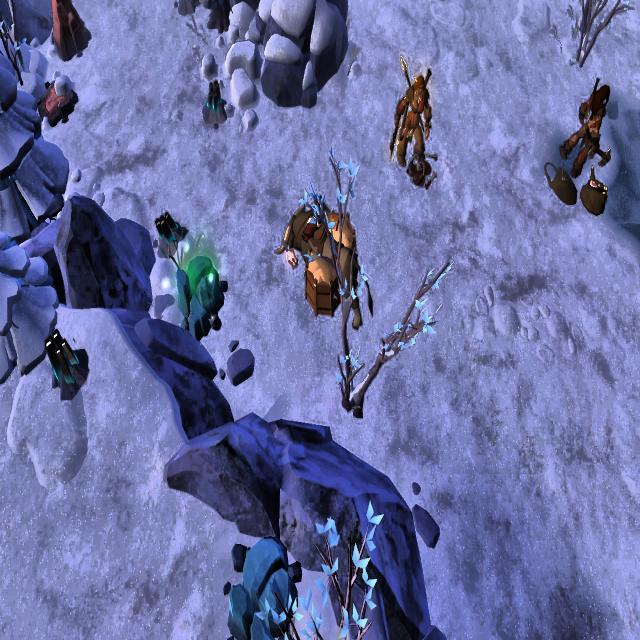enemy_factionKeeper: (560, 75, 615, 181), (388, 64, 440, 173)
ore_t4: (43, 324, 80, 386), (153, 204, 180, 242), (207, 74, 223, 116)
rock_t5: (50, 0, 89, 61)
